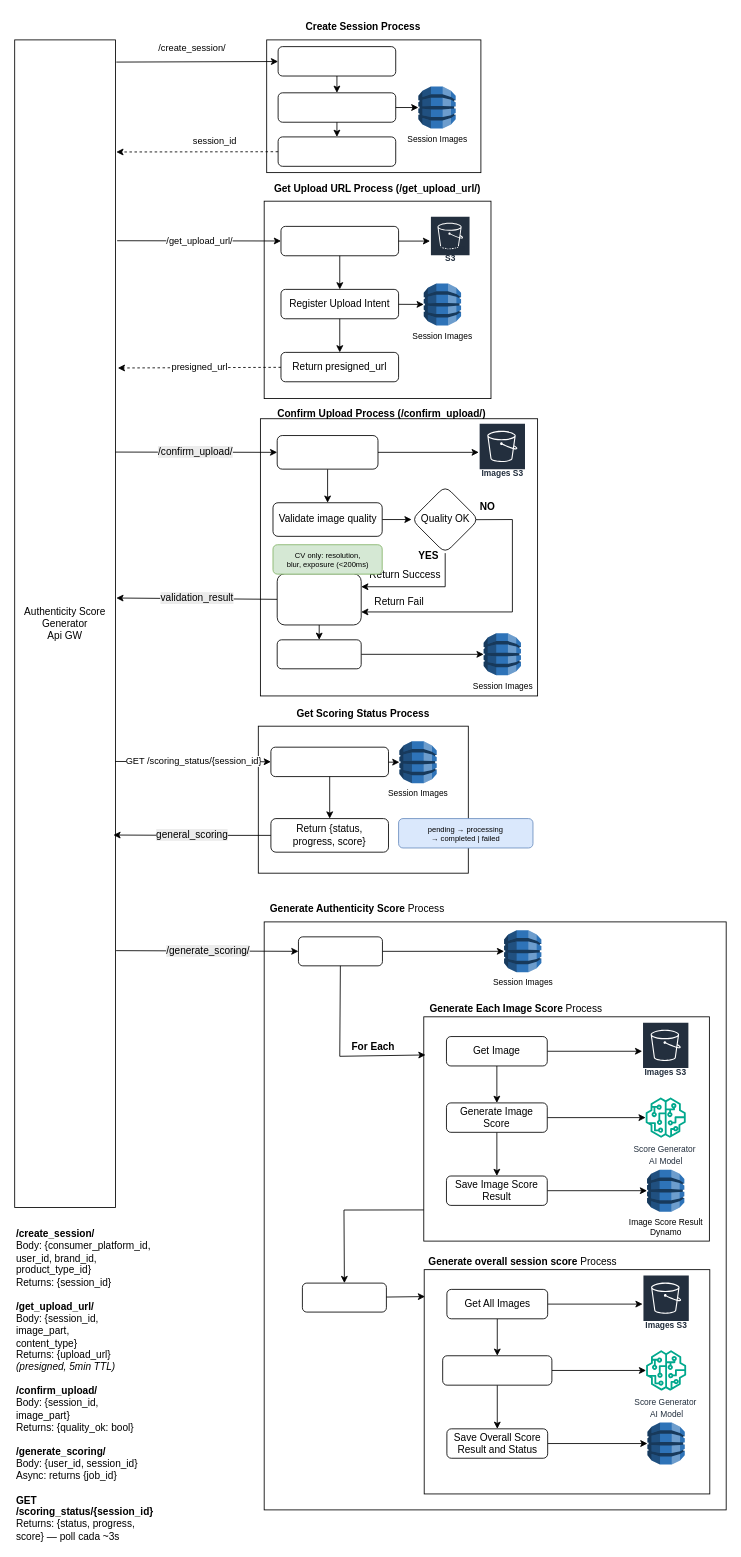
Image size: 741x1557. Some labels were removed from this diagram. The shapes that lost their labels are listed below. From the top down, each one's centre as x and y in pixels, then its label:
At (x=336, y=61): "Validate Consumer Auth".
At (x=336, y=107): "Create Session Record".
At (x=336, y=151): "Return session_id".
At (x=339, y=241): "Generate Presigned URL".
At (x=327, y=452): "Verify Image in S3".
At (x=318, y=599): "Return Result".
At (x=318, y=654): "Register Image Loaded".
At (x=329, y=761): "Get Session Status".
At (x=340, y=951): "Get Session Images".
At (x=344, y=1297): "Generate overall session score".
At (x=497, y=1370): "Generate overall Score (is the same product)".
At (x=666, y=1443): "Session Images Dynamo".
